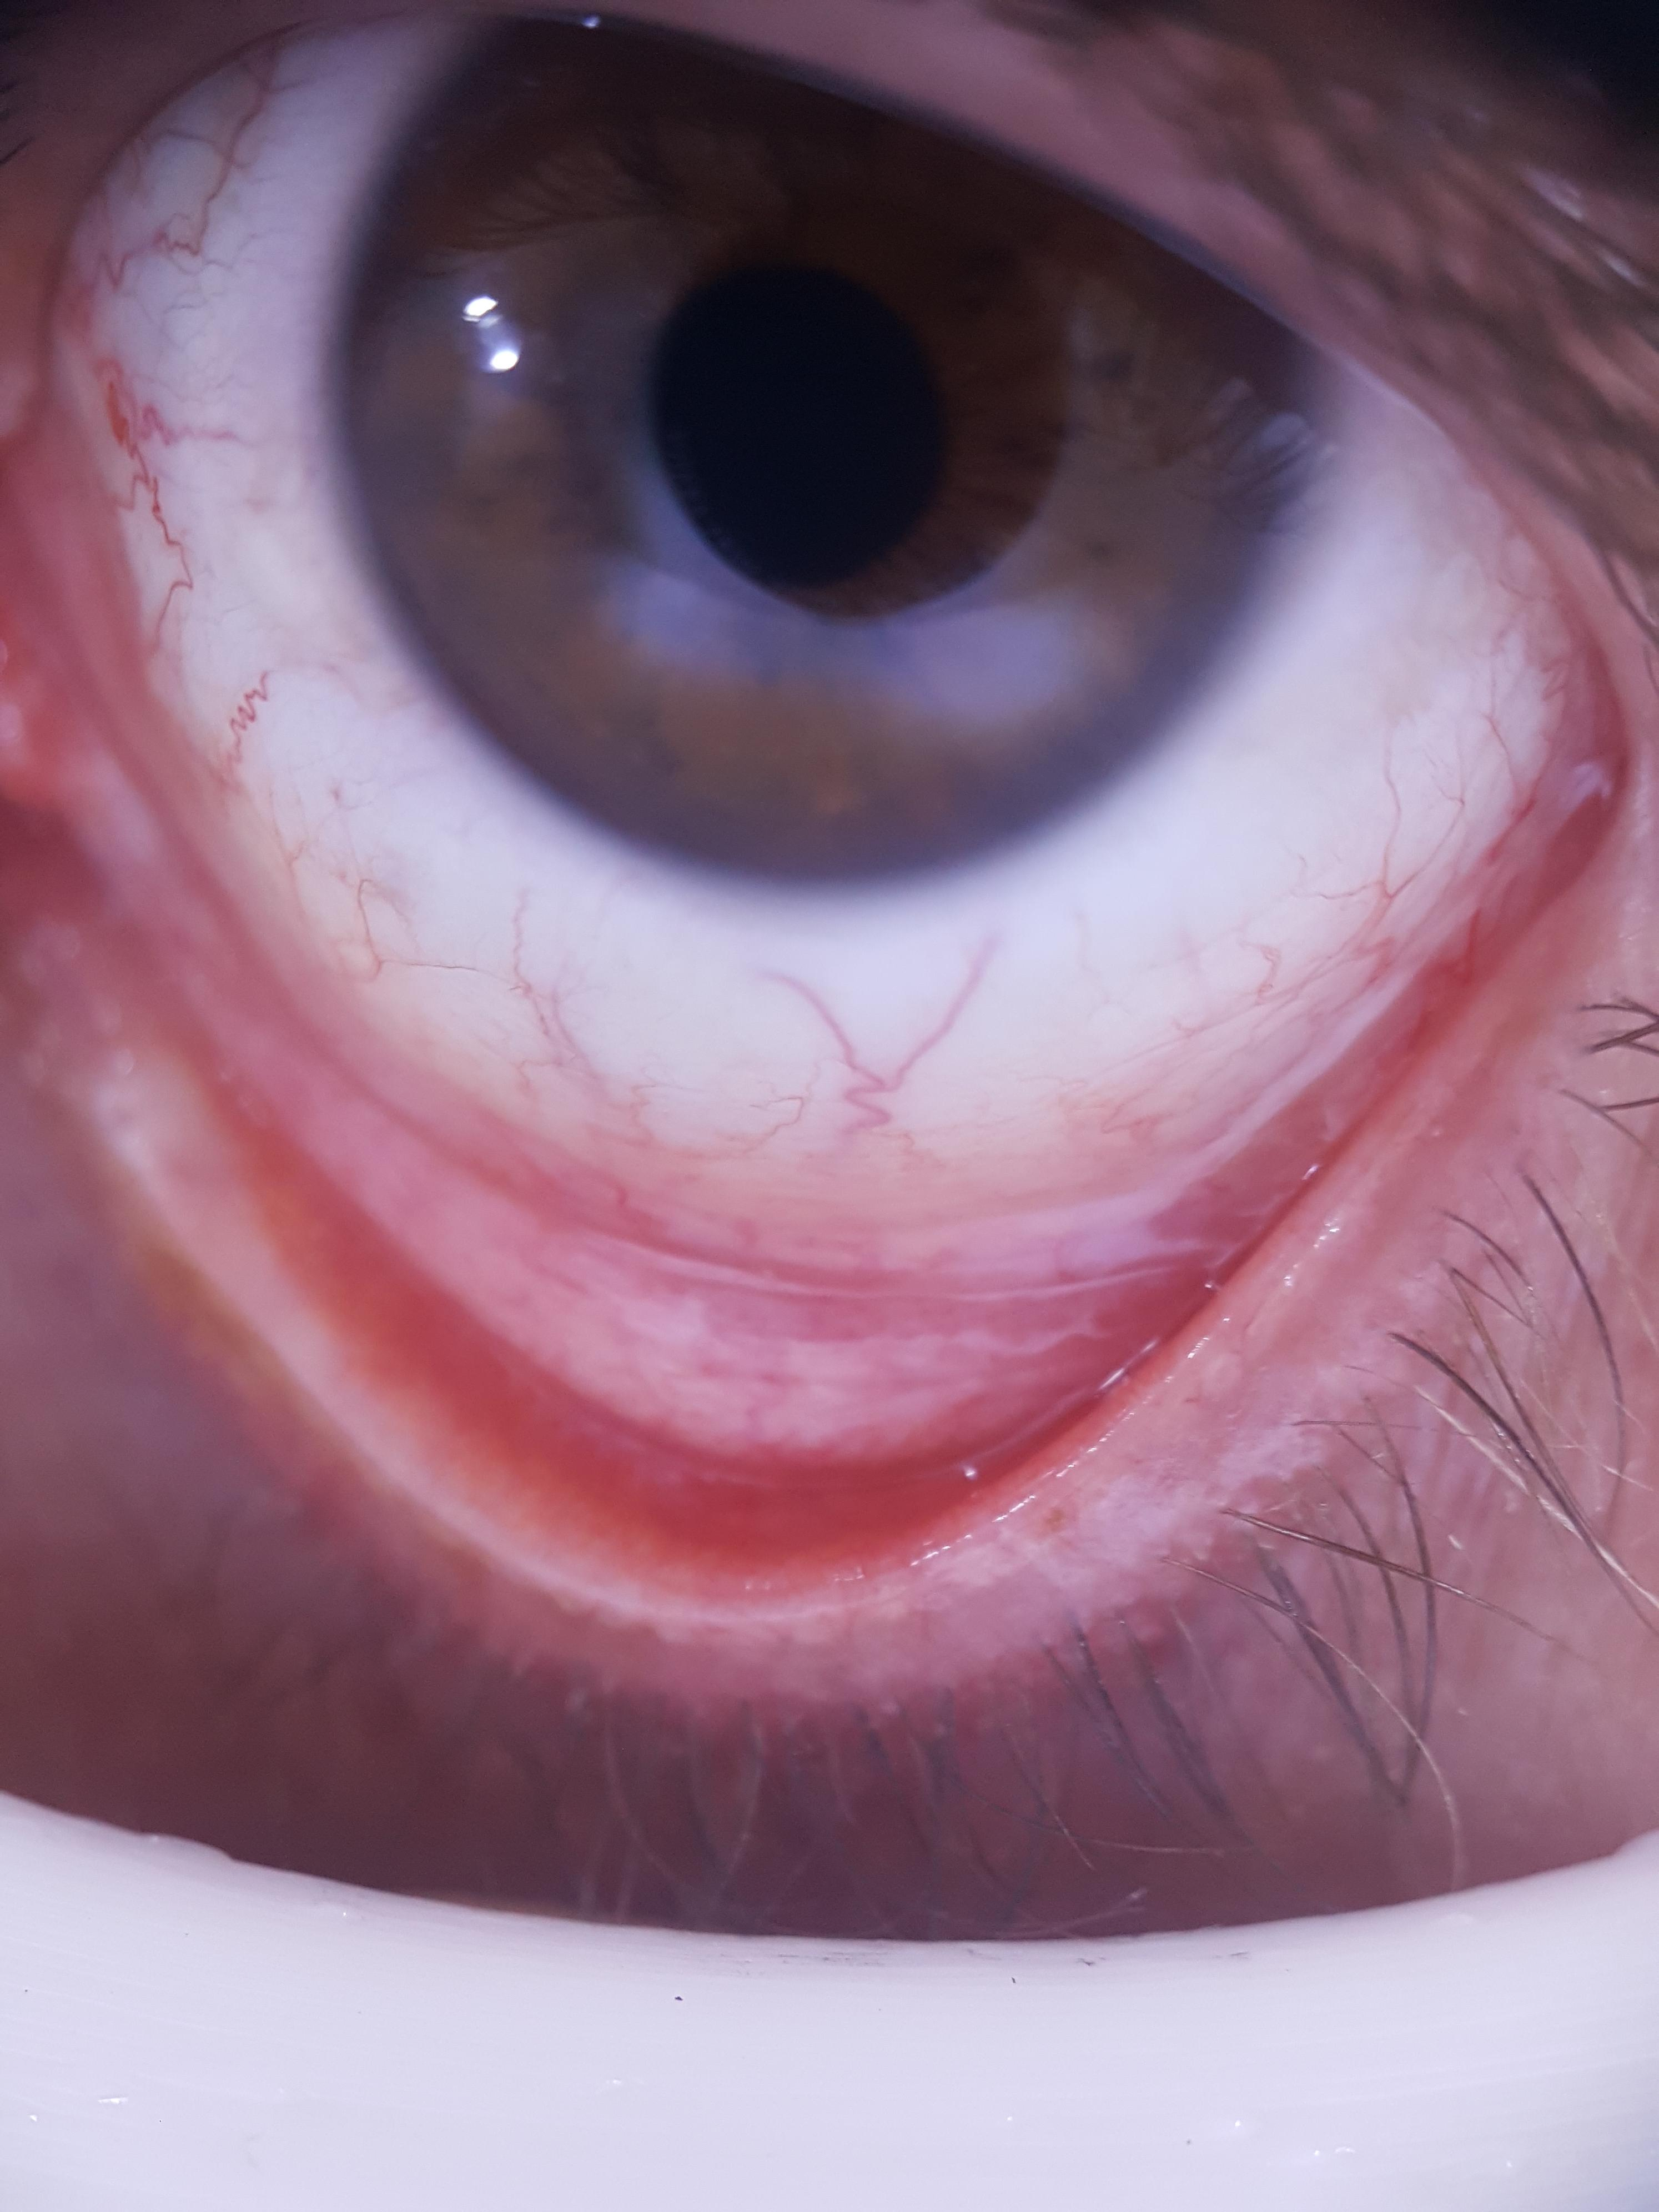forniceal: (61, 716, 1215, 1465)
forniceal_palpebral: (58, 705, 1225, 1583)
palpebral: (160, 1000, 1195, 1578)
